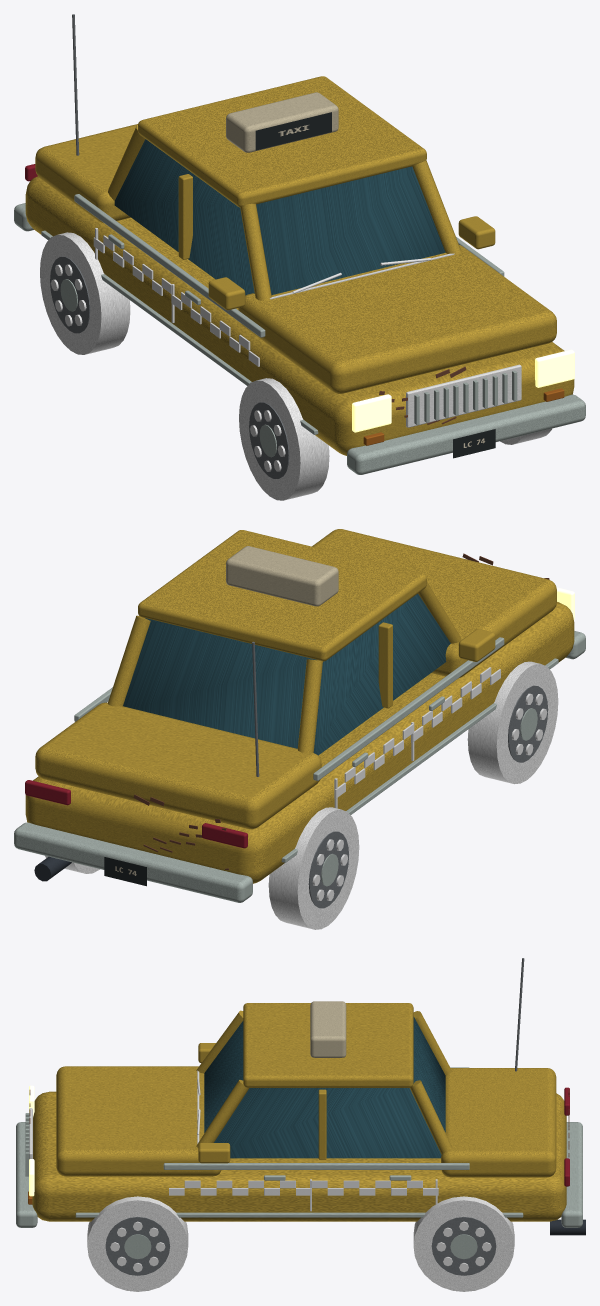
Rendered from taxi.glb.
The picture shows the model from 3 angles, top to bottom: view 1: azimuth 30°, elevation 25°; view 2: azimuth 150°, elevation 25°; view 3: azimuth 270°, elevation 25°; orthographic projection. The views are drawn at different scales.
Visible parts, largest first — view 1: checker-cab, bonnet, sloped-window-cabin, body-shell, roof, front-bumper, boot-lid, grille, headlight (×2), window-chrome, wing-mirror (×2), side-trim (+1 smaller); view 2: checker-cab, sloped-window-cabin, body-shell, boot-lid, roof, bonnet, rear-bumper, window-chrome, taillight (×2), side-trim, door-pillar, wing-mirror; view 3: checker-cab, body-shell, sloped-window-cabin, bonnet, roof, boot-lid, window-chrome, rear-bumper, side-trim, front-bumper, wing-mirror, door-pillar.
Boxes of the visible parts, x1=… form: checker-cab: x1=40, y1=14, x2=551, y2=500; bonnet: x1=238, y1=245, x2=556, y2=393; sloped-window-cabin: x1=114, y1=139, x2=445, y2=295; body-shell: x1=25, y1=176, x2=574, y2=455; roof: x1=138, y1=76, x2=426, y2=207; front-bumper: x1=347, y1=394, x2=585, y2=474; boot-lid: x1=35, y1=124, x2=137, y2=223; grille: x1=406, y1=364, x2=521, y2=427; headlight (×2): x1=352, y1=349, x2=574, y2=432; window-chrome: x1=74, y1=194, x2=265, y2=337; wing-mirror (×2): x1=208, y1=216, x2=495, y2=310; side-trim: x1=41, y1=230, x2=318, y2=434; checker-cab: x1=34, y1=546, x2=558, y2=929; sloped-window-cabin: x1=123, y1=594, x2=450, y2=755; body-shell: x1=25, y1=602, x2=574, y2=883; boot-lid: x1=35, y1=702, x2=321, y2=829; roof: x1=138, y1=530, x2=426, y2=661; bonnet: x1=312, y1=529, x2=556, y2=677; rear-bumper: x1=14, y1=822, x2=252, y2=902; window-chrome: x1=313, y1=637, x2=504, y2=780; taillight (×2): x1=25, y1=780, x2=247, y2=848; side-trim: x1=281, y1=658, x2=558, y2=862; door-pillar: x1=378, y1=622, x2=392, y2=708; wing-mirror: x1=458, y1=629, x2=495, y2=661; checker-cab: x1=25, y1=958, x2=585, y2=1291; body-shell: x1=32, y1=1091, x2=566, y2=1221; sloped-window-cabin: x1=204, y1=1017, x2=445, y2=1158; bonnet: x1=56, y1=1066, x2=221, y2=1176; roof: x1=243, y1=1003, x2=413, y2=1087; boot-lid: x1=441, y1=1068, x2=556, y2=1177; window-chrome: x1=163, y1=1163, x2=469, y2=1169; rear-bumper: x1=561, y1=1122, x2=582, y2=1227; side-trim: x1=75, y1=1212, x2=523, y2=1217; front-bumper: x1=16, y1=1122, x2=37, y2=1227; wing-mirror: x1=198, y1=1143, x2=230, y2=1163; door-pillar: x1=318, y1=1089, x2=326, y2=1159.
Size of the model in its own units: 1.77 by 1.88 by 3.96.
15 materials, 14 textured.
